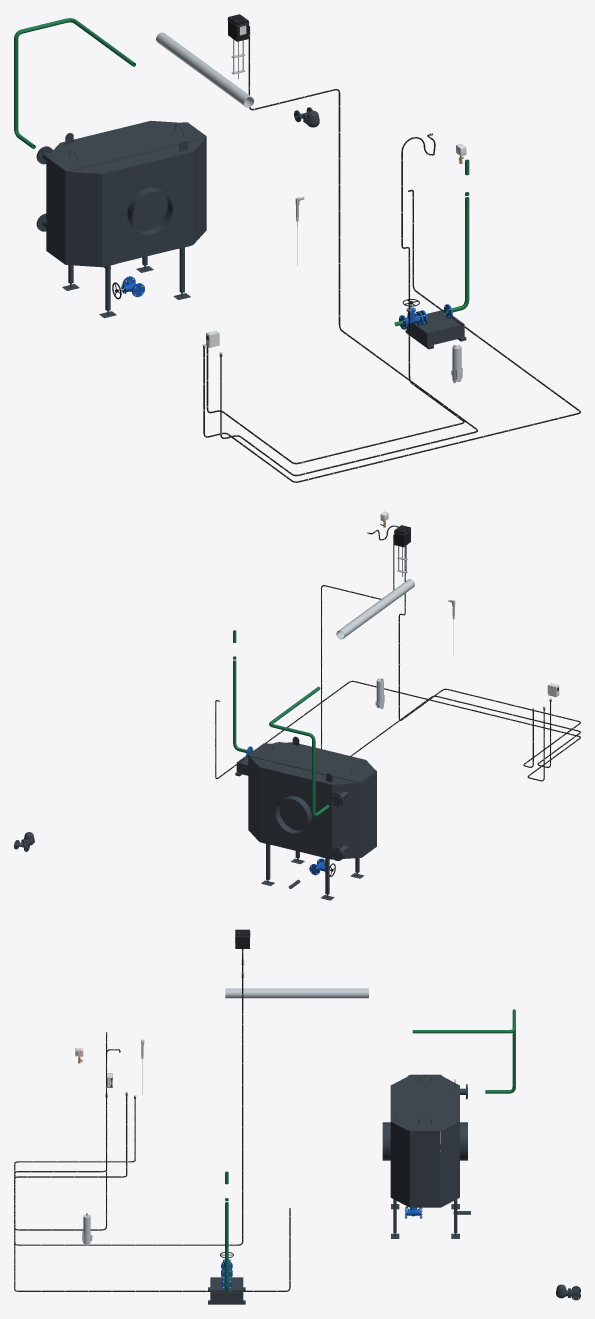
The model's file is s4000-2-BsKvkr7s.glb.
3 renders of one model, top to bottom at view 1: azimuth 30°, elevation 25°; view 2: azimuth 150°, elevation 25°; view 3: azimuth 270°, elevation 25°, orthographic. The views are drawn at different scales.
Parts seen in each view (by area): view 1: EQS2-3000 CAD 0, EQS2-3000 CAD 3, EQS2-3000 CAD 1, gpz_drive_cable / black, wiring_pump_2 / black, wiring_pressure_switch_3 / black, pump_branch_1 / dark, from_economizer / green, steam_delivery / steel, pump_branch_1 / green; view 2: EQS2-3000 CAD 0, EQS2-3000 CAD 3, EQS2-3000 CAD 2, wiring_pump_2 / black, gpz_drive_cable / black, wiring_pressure_switch_3 / black, from_economizer / green, steam_delivery / steel; view 3: EQS2-3000 CAD 3, gpz_drive_cable / black, steam_delivery / steel, EQS2-3000 CAD 0, wiring_pump_2 / black, wiring_pressure_switch_3 / black, pump_branch_1 / dark, from_economizer / green.
Boxes of the visible parts, x1=… form: EQS2-3000 CAD 0: x1=62, y1=152, x2=192, y2=318; EQS2-3000 CAD 3: x1=46, y1=121, x2=206, y2=264; EQS2-3000 CAD 1: x1=65, y1=171, x2=102, y2=267; gpz_drive_cable / black: x1=220, y1=26, x2=477, y2=476; wiring_pump_2 / black: x1=203, y1=189, x2=580, y2=482; wiring_pressure_switch_3 / black: x1=206, y1=134, x2=464, y2=464; pump_branch_1 / dark: x1=405, y1=309, x2=466, y2=349; from_economizer / green: x1=14, y1=18, x2=135, y2=148; steam_delivery / steel: x1=156, y1=32, x2=230, y2=90; pump_branch_1 / green: x1=394, y1=159, x2=469, y2=326; EQS2-3000 CAD 0: x1=259, y1=767, x2=364, y2=900; EQS2-3000 CAD 3: x1=248, y1=736, x2=376, y2=857; EQS2-3000 CAD 2: x1=330, y1=783, x2=361, y2=860; wiring_pump_2 / black: x1=215, y1=680, x2=580, y2=781; gpz_drive_cable / black: x1=321, y1=534, x2=580, y2=767; wiring_pressure_switch_3 / black: x1=369, y1=525, x2=580, y2=767; from_economizer / green: x1=269, y1=686, x2=329, y2=816; steam_delivery / steel: x1=336, y1=591, x2=397, y2=639; EQS2-3000 CAD 3: x1=390, y1=1074, x2=459, y2=1207; gpz_drive_cable / black: x1=14, y1=943, x2=243, y2=1245; steam_delivery / steel: x1=260, y1=988, x2=368, y2=998; EQS2-3000 CAD 0: x1=382, y1=1085, x2=467, y2=1238; wiring_pump_2 / black: x1=14, y1=1095, x2=290, y2=1291; wiring_pressure_switch_3 / black: x1=14, y1=1032, x2=135, y2=1230; pump_branch_1 / dark: x1=208, y1=1277, x2=245, y2=1304; from_economizer / green: x1=412, y1=1009, x2=515, y2=1093.
Bounding box in the file's own units: 4.36 × 3.81 × 6.74.
